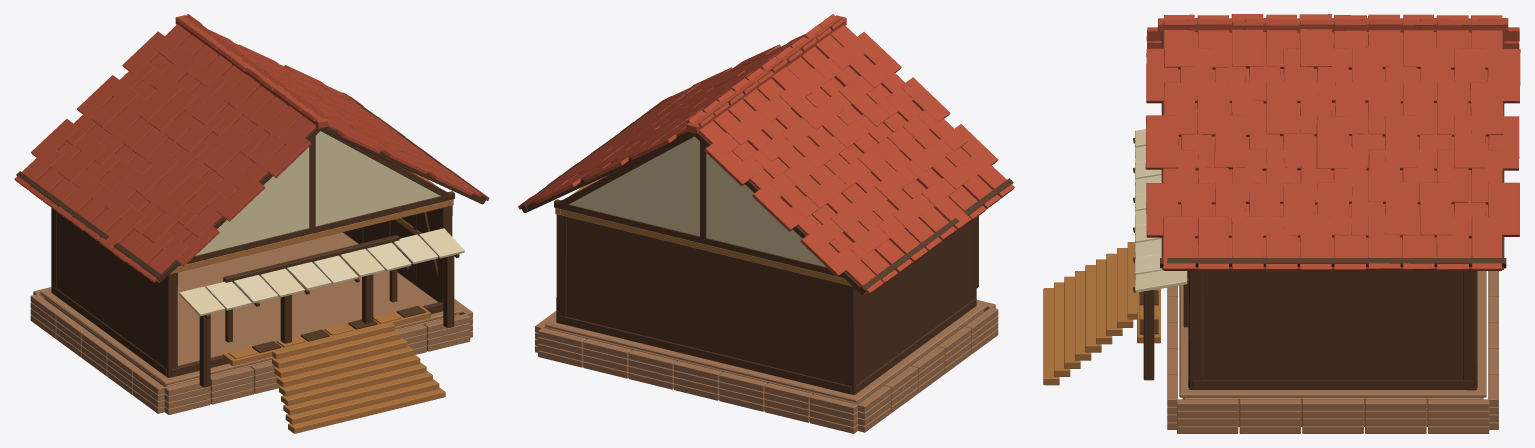
Rendered from building_village_market_hall_a.glb.
The picture shows the model from 3 angles, left to right: view 1: azimuth 30°, elevation 25°; view 2: azimuth 150°, elevation 25°; view 3: azimuth 270°, elevation 25°; orthographic projection. The views are drawn at different scales.
Visible parts, largest first — view 1: building_village_market_hall_a_LOD0; view 2: building_village_market_hall_a_LOD0; view 3: building_village_market_hall_a_LOD0.
Boxes of the visible parts, x1,y1,x2,y2 form: building_village_market_hall_a_LOD0: [14, 14, 489, 433]; building_village_market_hall_a_LOD0: [518, 14, 1014, 433]; building_village_market_hall_a_LOD0: [1043, 14, 1520, 433].
Size of what is drawn, in the model's own units: 10 by 7.46 by 9.99.
